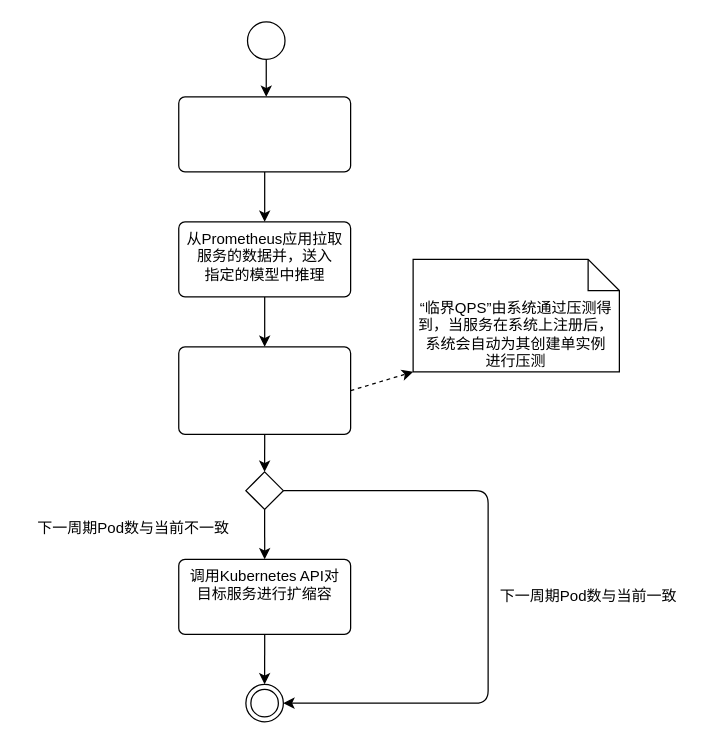
Image size: 710x744. Some labels were removed from this diagram. The shapes that lost their labels are listed below. From the top down, each one's centre as x and y in pixels, then its label:
the point at 264,134: 采用了自动扩缩容策略的 服务主动上报QPS数据 至Prometheus应用
the point at 264,390: 推理的结果除以服务 的临界QPS，计算出 服务下一周期的Pod数， 并与当前Pod数比较
